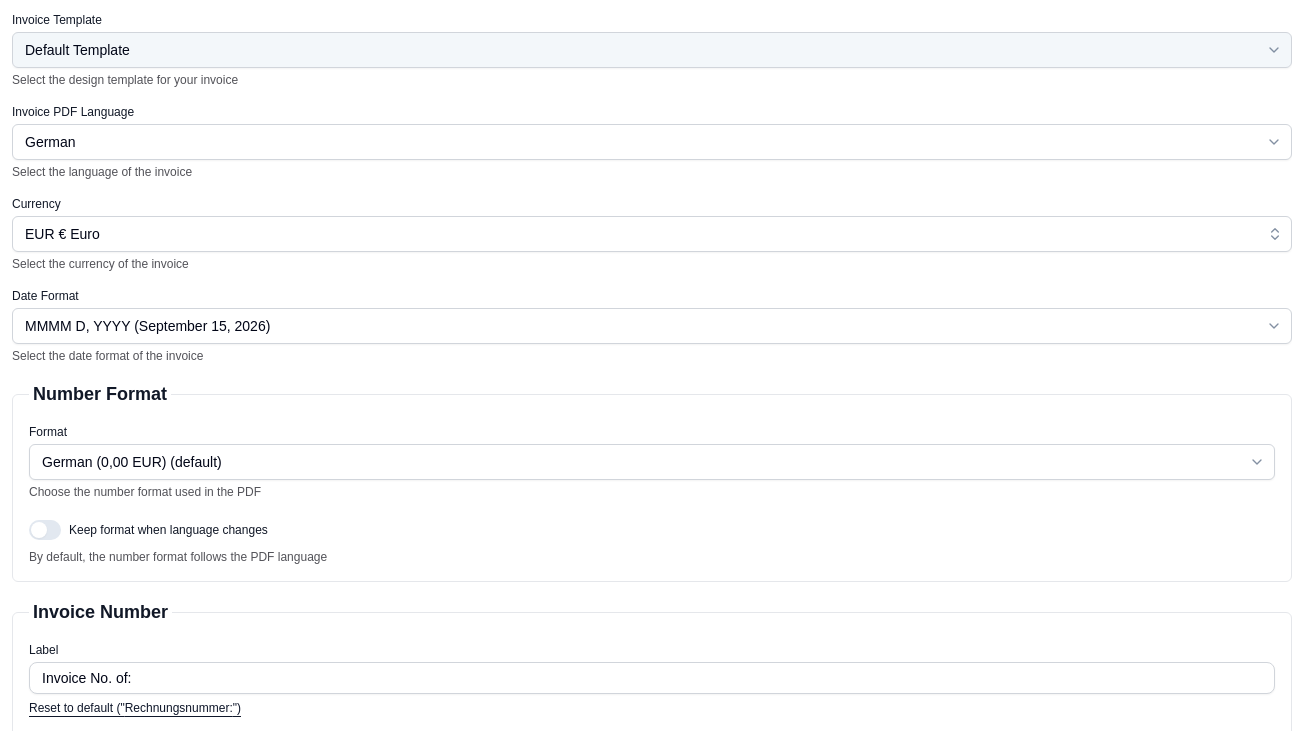
Test case: GeneralInformation date helper texts › "Keep format when language changes" switch › pins the previous language when no format was ever picked
The width and height of the screenshot is (1304, 731).
Expected: the dropdown labelled "Format" shows "German (0,00 EUR) (default)", [29,444,1275,480]
Step 1. Click the switch with test id "preserveNumberFormatOnLanguageChange" → (45, 530), box [29,520,61,540]
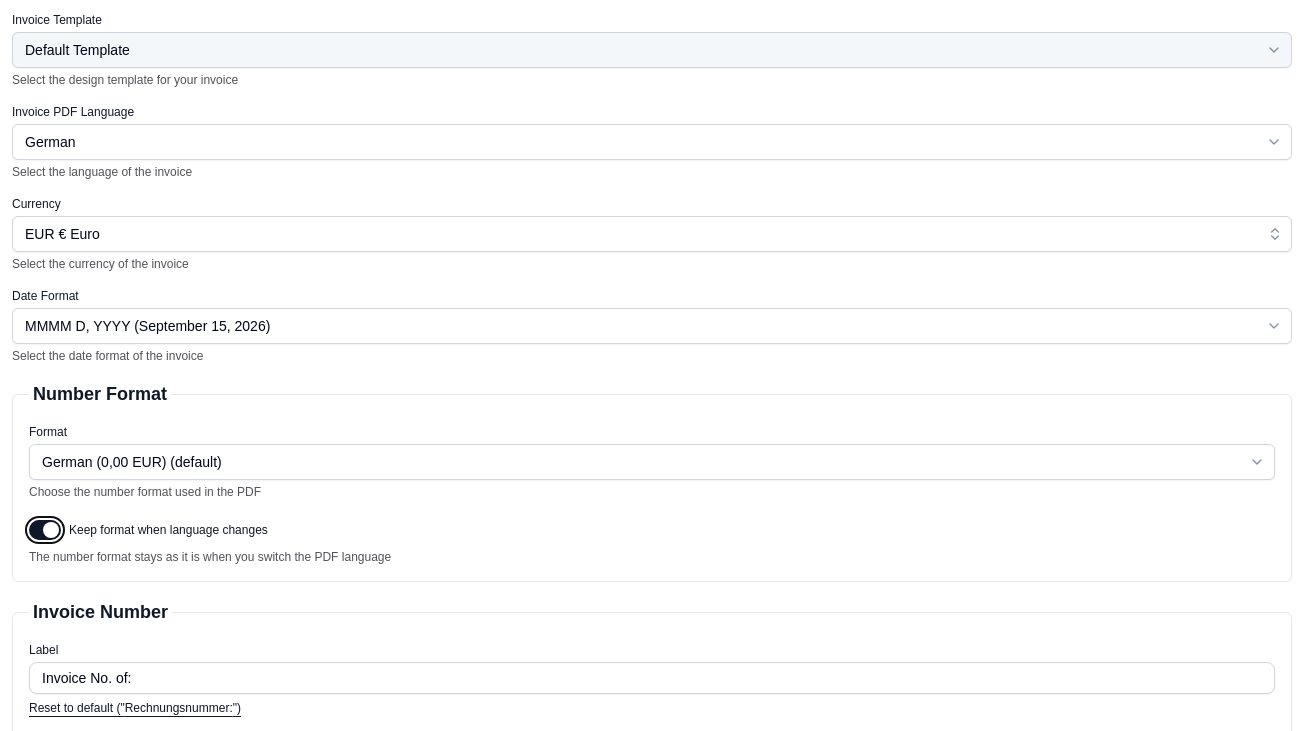
Step 2. Select "English" in the dropdown labelled "Invoice PDF Language" → (652, 142), box [12,124,1292,160]
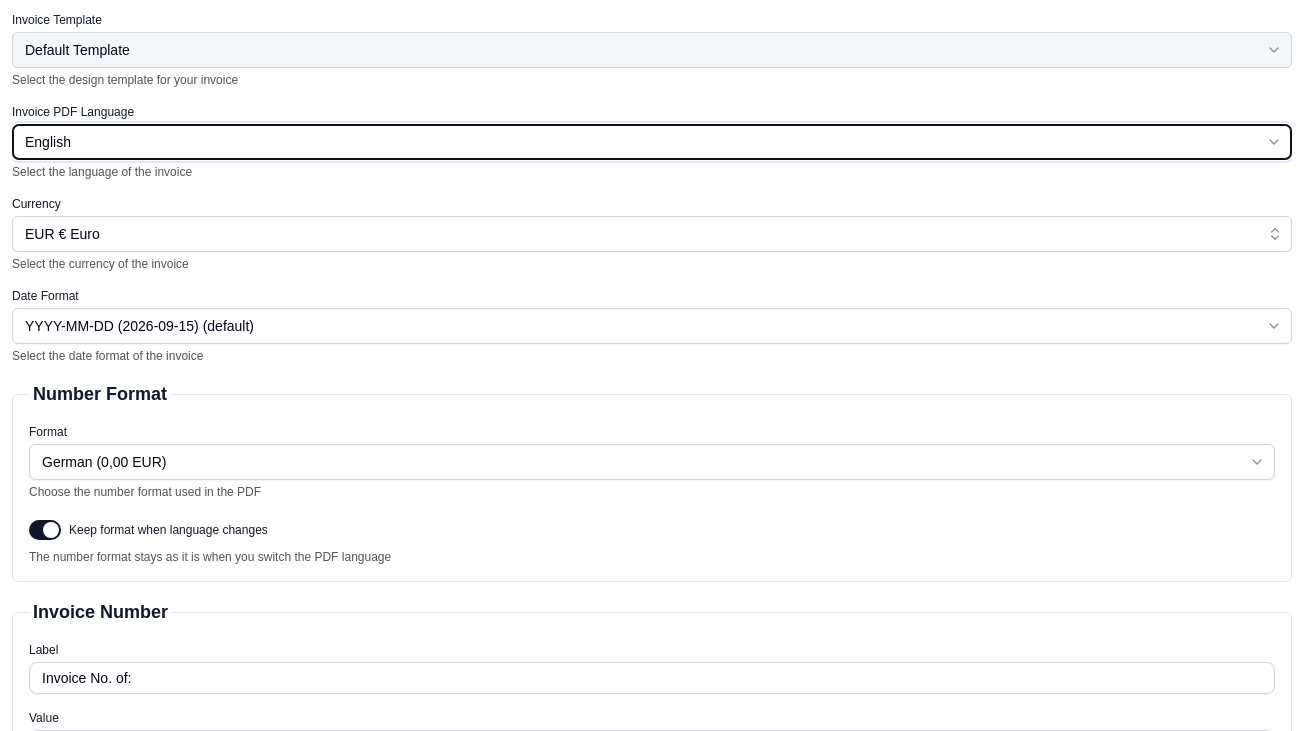
Now the dropdown labelled "Format" shows "German (0,00 EUR)", box [29,444,1275,480]
